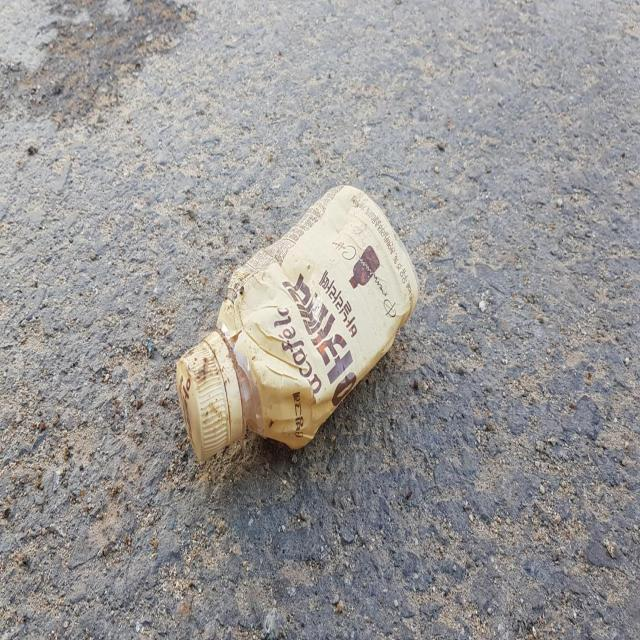plastic: (176, 184, 419, 460)
